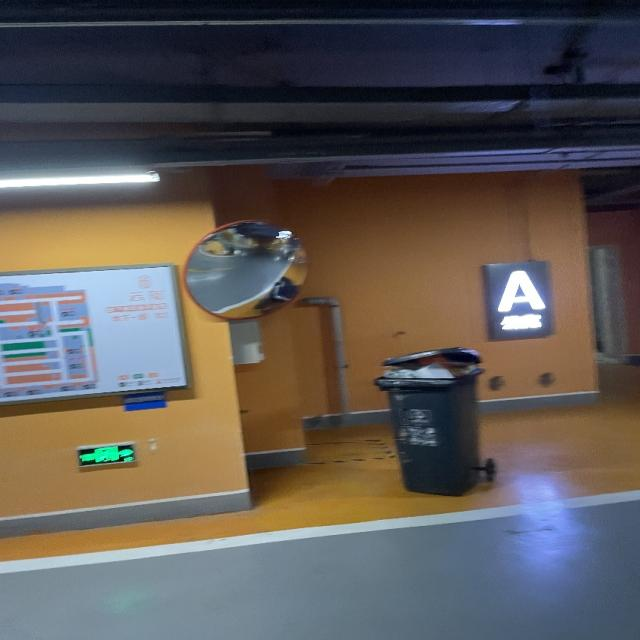overflow: (372, 346, 483, 496)
